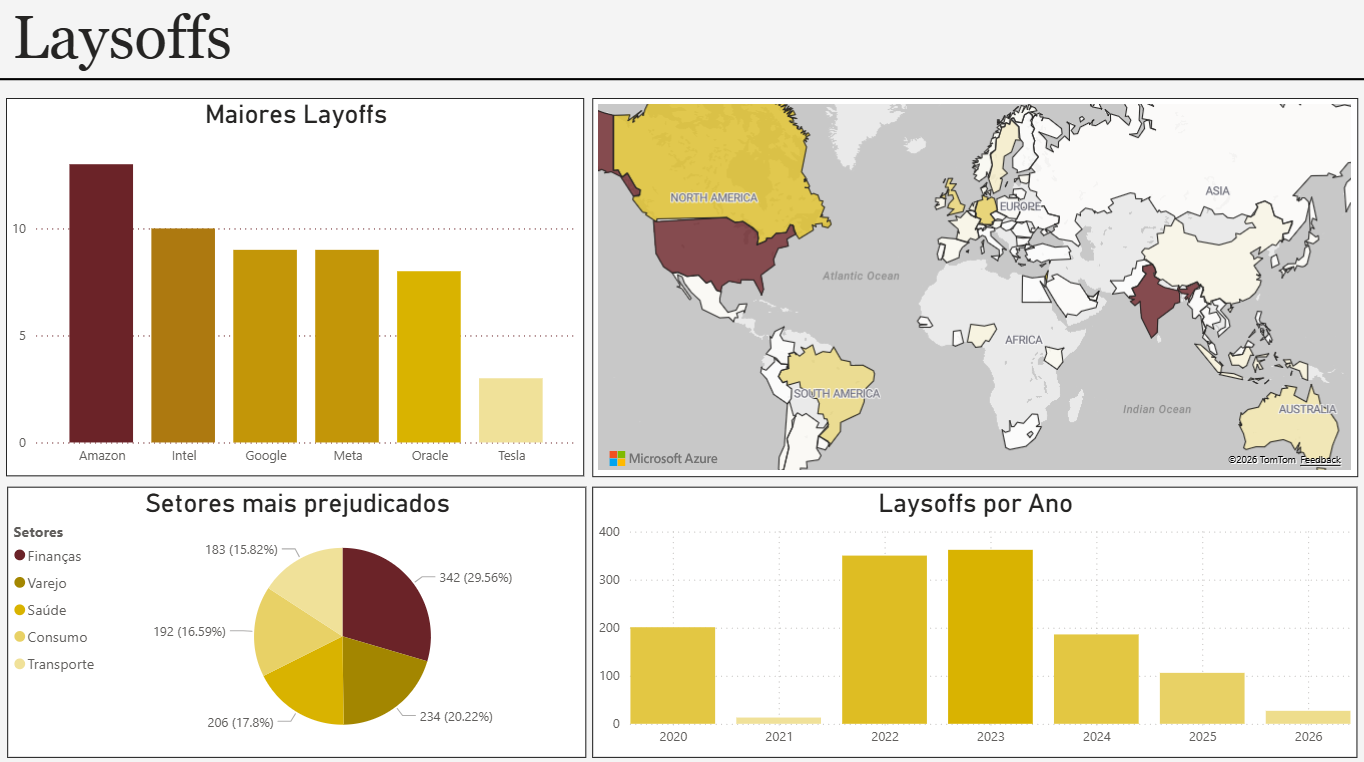

The dashboard page shown, as its layout file describes it:
{"tool":"powerbi","page":{"name":"LaysOffs","canvas":[1280,720],"ordinal":0},"visuals":[{"type":"textbox","box":[10,0,240.1,93.3],"z":1000},{"type":"shape","box":[0,58.5,1280,34.8],"z":2000},{"type":"columnChart","title":"Maiores Layoffs","fields":{"Category":["layoffs.company"],"Y":["Count(layoffs.total_laid_off)"]},"box":[9.6,93.3,539.3,352.7],"z":3000},{"type":"columnChart","title":"Laysoffs por Ano","fields":{"Y":["CountNonNull(layoffs.total_laid_off)"],"Category":["layoffs.date.Variation.Hierarquia de datas.Ano"]},"box":[555.7,455.6,713.6,252.5],"z":5000},{"type":"azureMap","fields":{"Category":["layoffs.country"]},"box":[556,93.3,714,353.3],"z":5001},{"type":"pieChart","title":"Setores mais prejudicados","fields":{"Category":["layoffs.industry"],"Y":["CountNonNull(layoffs.total_laid_off)"]},"box":[10,455.3,539.9,252.5],"z":5002}]}

Visuals, with their boxes in screenshot pixels (x1, y1, x2, y2), scaled from the page's 1280x720 canvas onto the 1364x762 screenshot:
textbox: left=11, top=0, right=267, bottom=99
shape: left=0, top=62, right=1363, bottom=99
"Maiores Layoffs" columnChart: left=10, top=99, right=585, bottom=472
"Laysoffs por Ano" columnChart: left=592, top=482, right=1353, bottom=749
azureMap - layoffs.country: left=592, top=99, right=1353, bottom=473
"Setores mais prejudicados" pieChart: left=11, top=482, right=586, bottom=749
